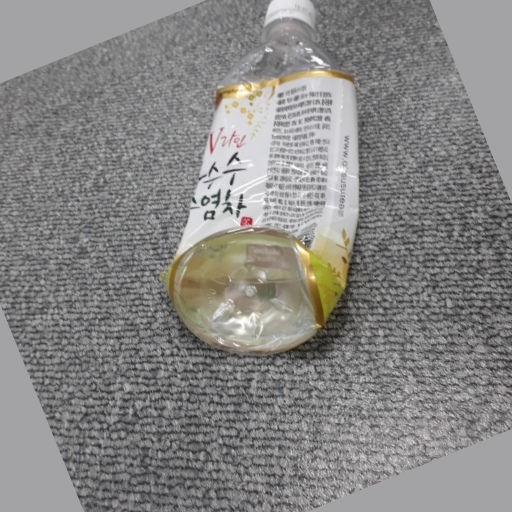Plastic_0: (166, 1, 361, 355)
